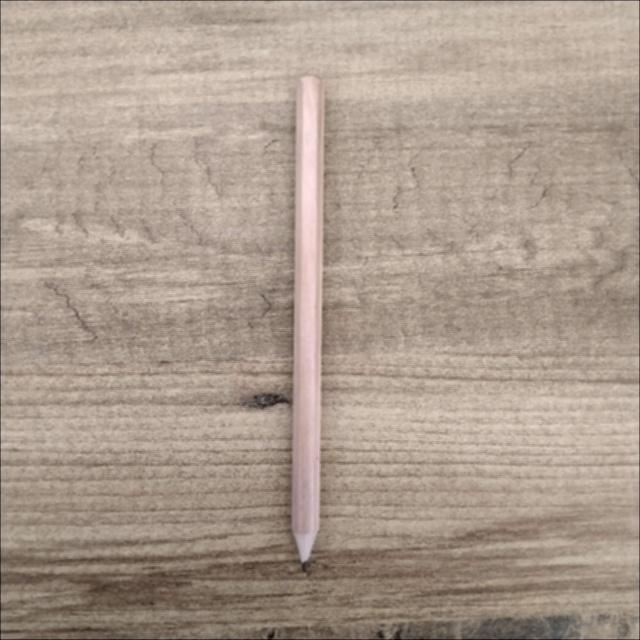pencil: (292, 76, 323, 569)
